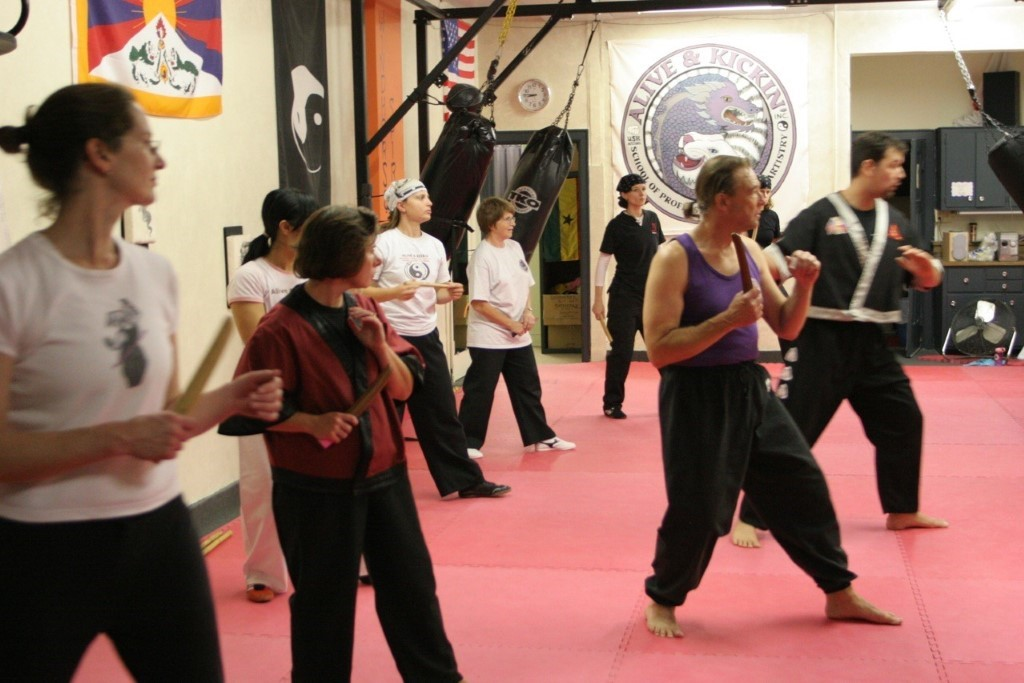baston_e: (172, 327, 234, 410), (344, 374, 394, 412), (730, 239, 756, 288), (205, 529, 228, 556), (597, 319, 611, 336)
baston_v: (218, 309, 239, 331), (724, 227, 745, 245), (383, 359, 398, 378), (225, 527, 234, 535), (606, 337, 615, 345)
